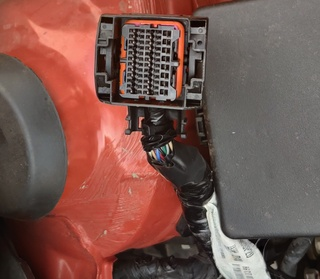connector: (94, 14, 209, 109)
